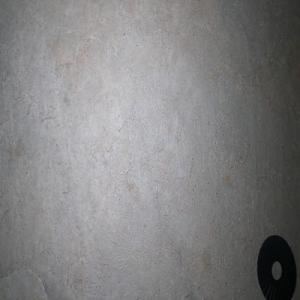Washer: (256, 234, 296, 300)
